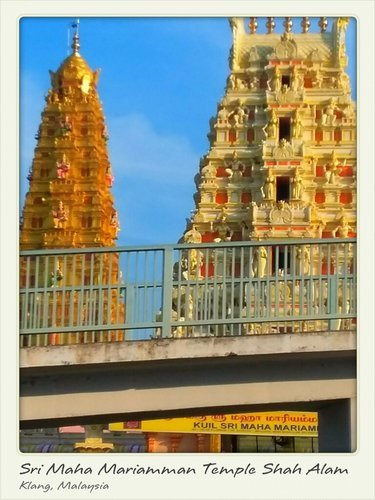Hindu Temple: (179, 26, 363, 326)
